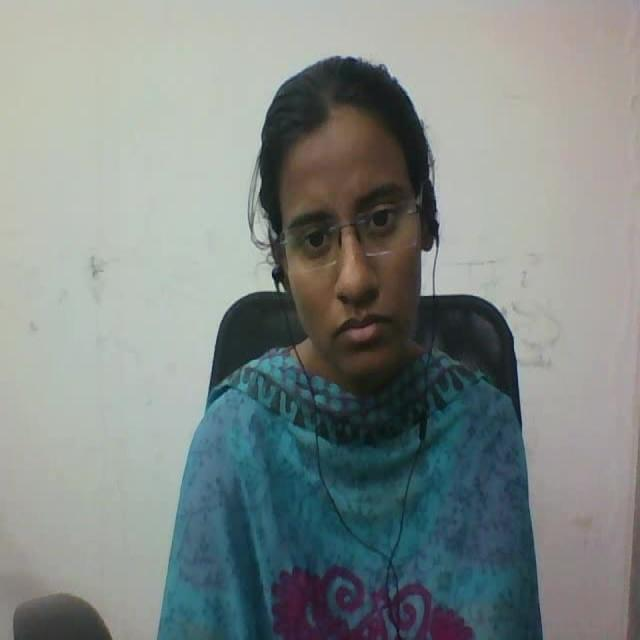Engaged: (248, 28, 448, 410)
